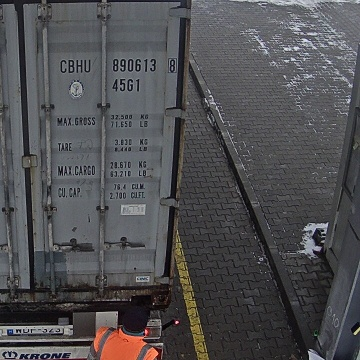serial_id: (60, 59, 175, 73)
